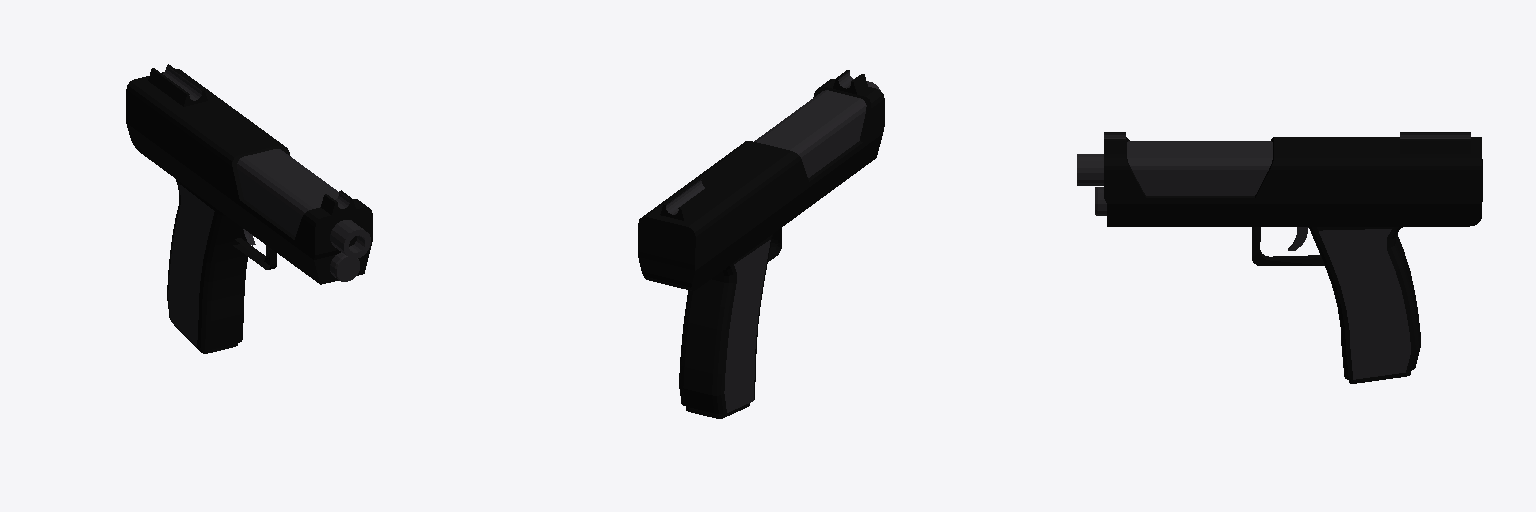
The model's file is HandGun.obj.
The picture shows the model from 3 angles: view 1: azimuth 30°, elevation 25°; view 2: azimuth 150°, elevation 25°; view 3: azimuth 270°, elevation 25°; orthographic projection.
Parts seen in each view (by area): view 1: group002.001_Cube.000; view 2: group002.001_Cube.000; view 3: group002.001_Cube.000.
Boxes of the visible parts, box(x1,y1,x2,y2) form: group002.001_Cube.000: box(126, 64, 372, 353); group002.001_Cube.000: box(638, 70, 884, 418); group002.001_Cube.000: box(1077, 132, 1482, 383).
Size of the model in its own units: 0.0288 by 0.115 by 0.1765.